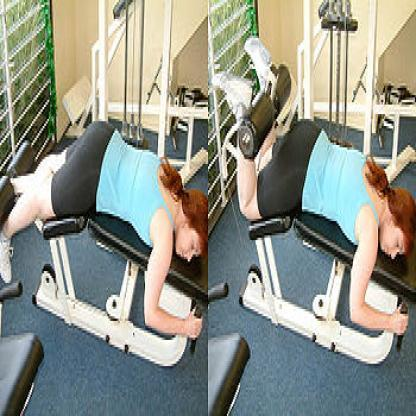reg curl machine: (208, 42, 416, 371), (1, 112, 207, 369)
